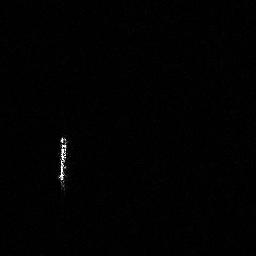ship: (53, 134, 71, 192)
